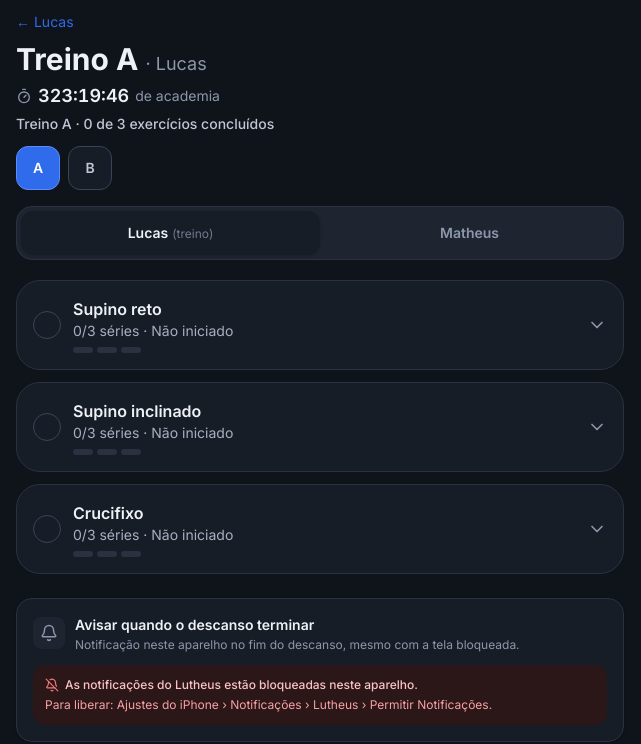
editar o nome do exercício na ficha › erro ao salvar aparece no campo e o nome antigo permanece
Expected: the text "Treino A · 0 de 3 exercícios concluídos" is shown, [16, 115, 274, 132]
Click the button "Crucifixo 0/3 séries · Não iniciado" at x=108, y=513, box [17, 485, 623, 573]
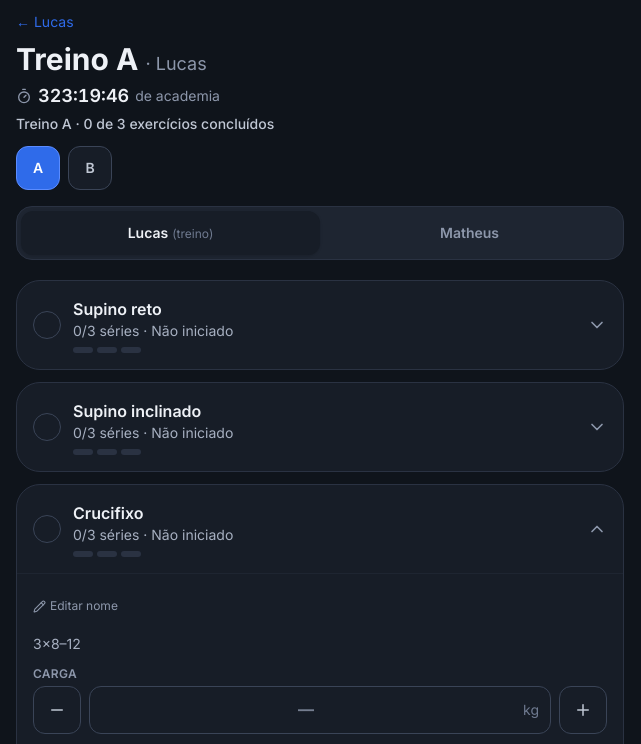
Click the button with aria-label "Editar nome de Crucifixo" at x=75, y=606, box [33, 586, 118, 626]
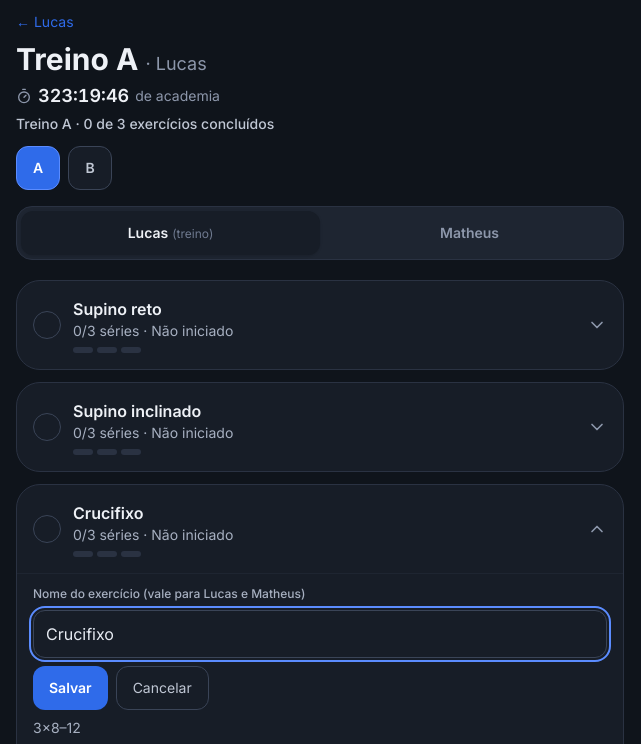
Replace the text in the field labelled "Nome do exercício (vale para Lucas e Matheus)" with "Crucifixo máquina" at x=320, y=634, box [33, 610, 607, 658]
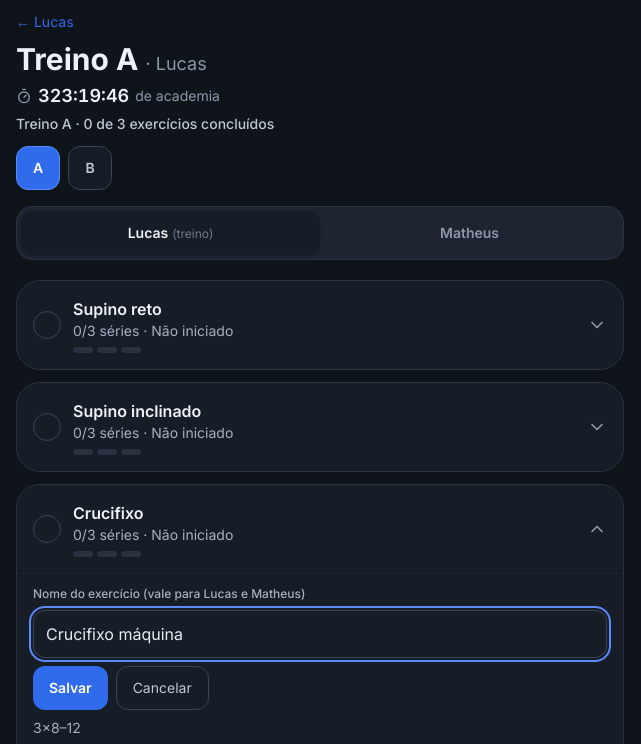
Click the button "Salvar" at x=70, y=688, box [33, 666, 108, 710]
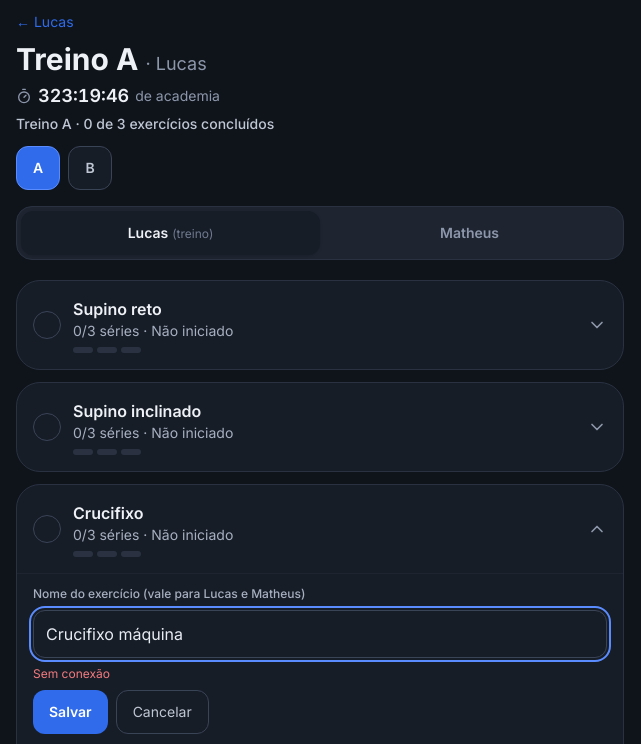
Expected: the text "Crucifixo" is shown, [73, 503, 144, 523]
Now the text "Sem conexão" is shown, box [33, 666, 110, 681]
